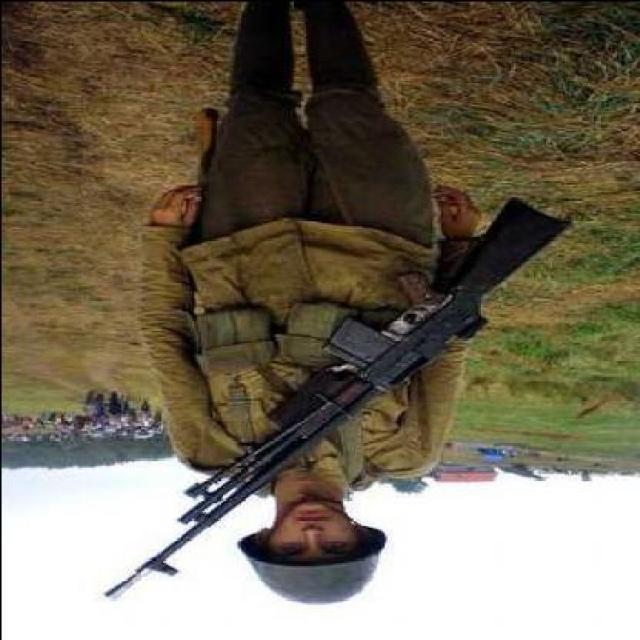rifle: (102, 194, 572, 599)
